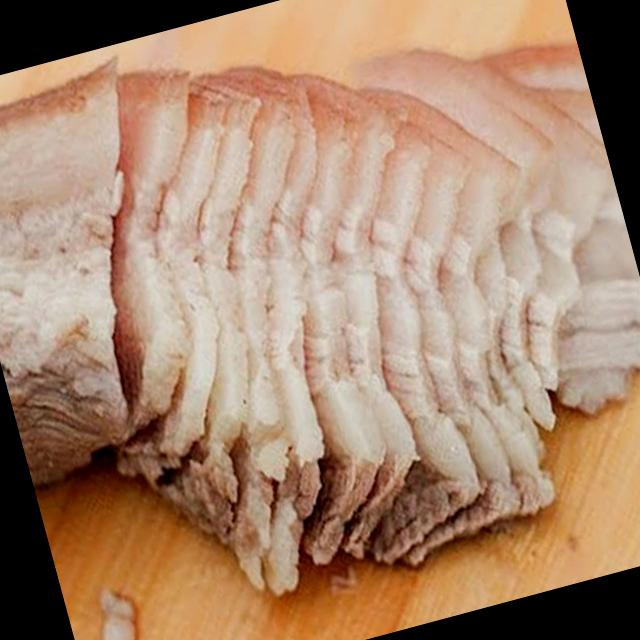thit luoc: (0, 46, 640, 593)
